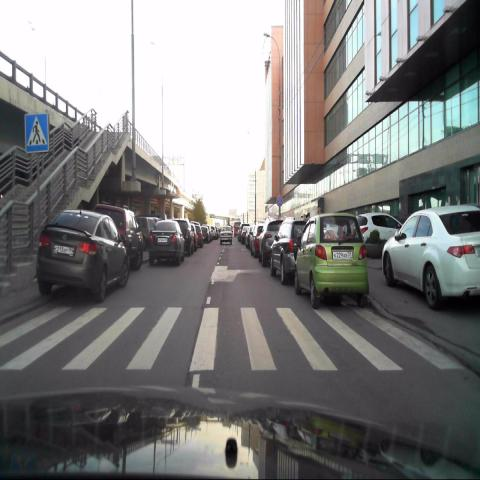5_19_1: (23, 111, 50, 157)
